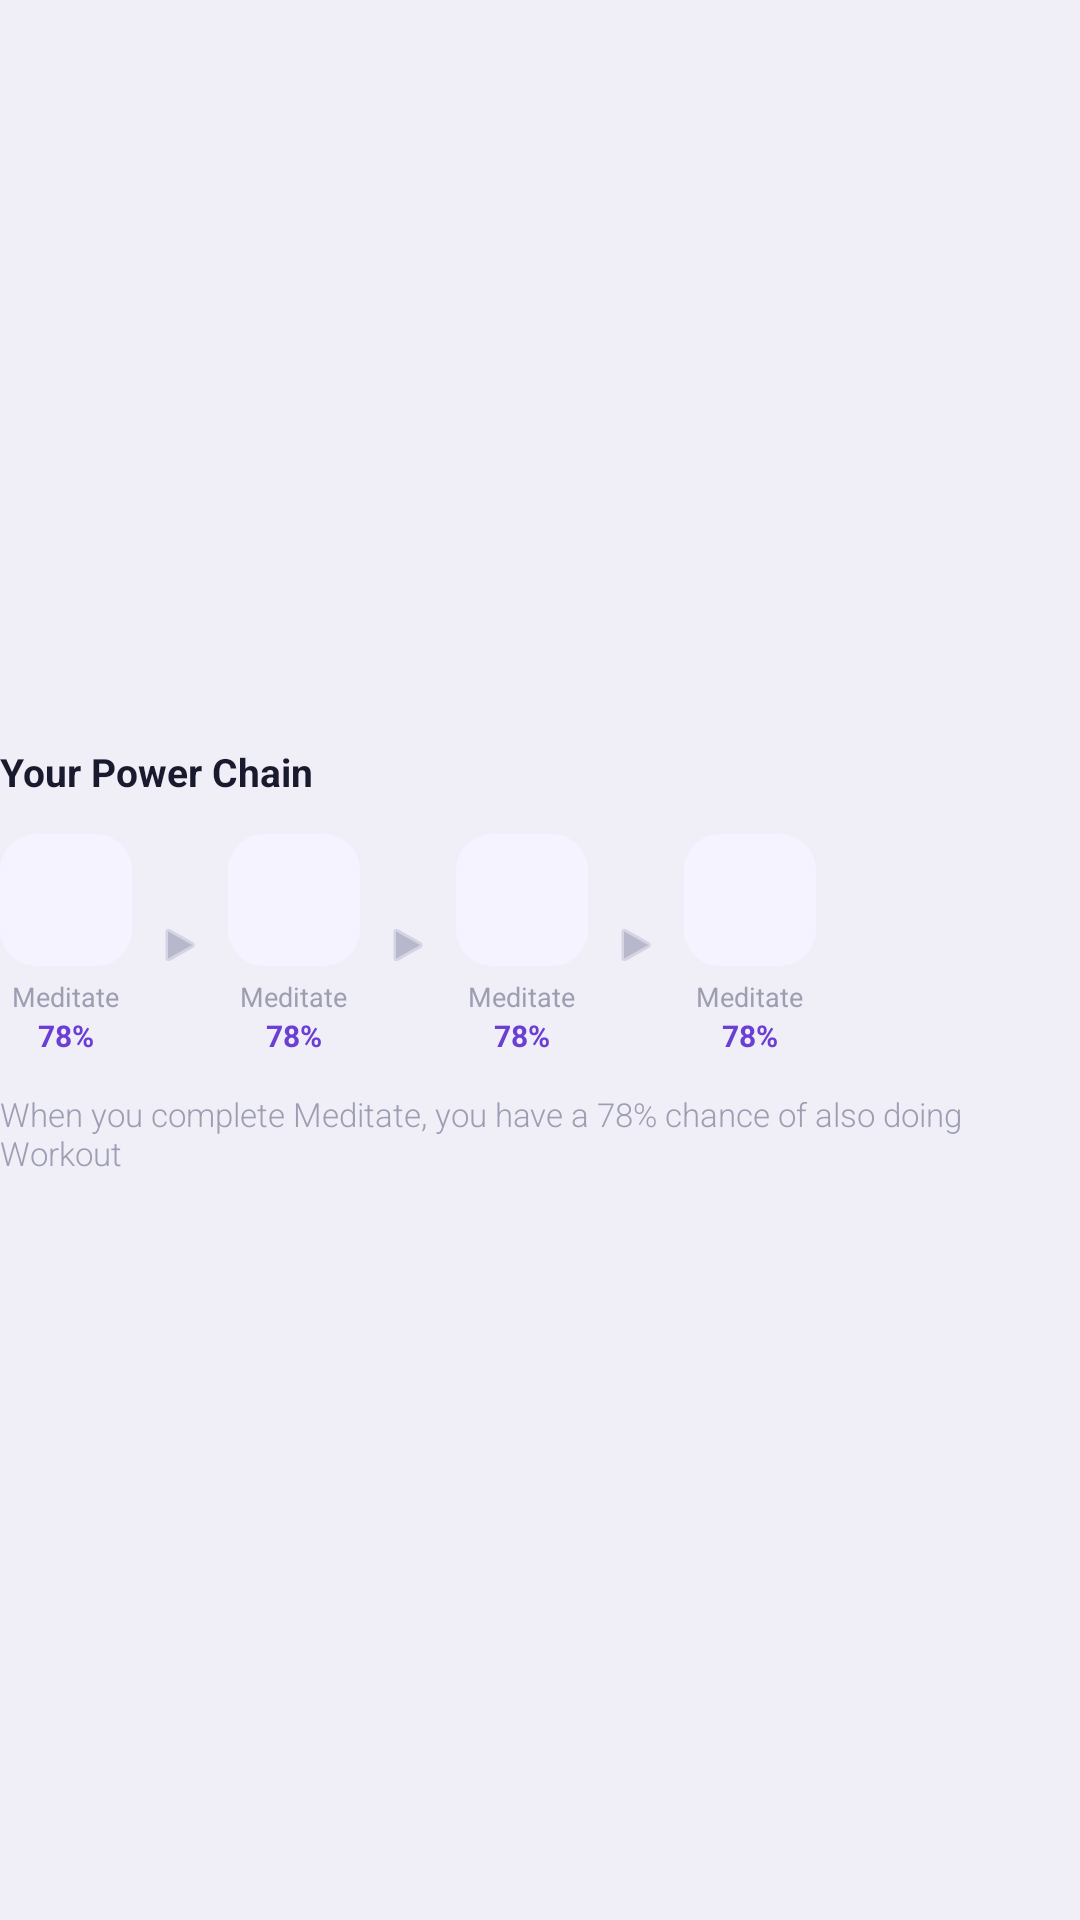

Point at icon controls on the screen. Image size 1080 × 1920, points as (x=x, y=y).
play: (x=180, y=945), (x=408, y=945), (x=636, y=945)
